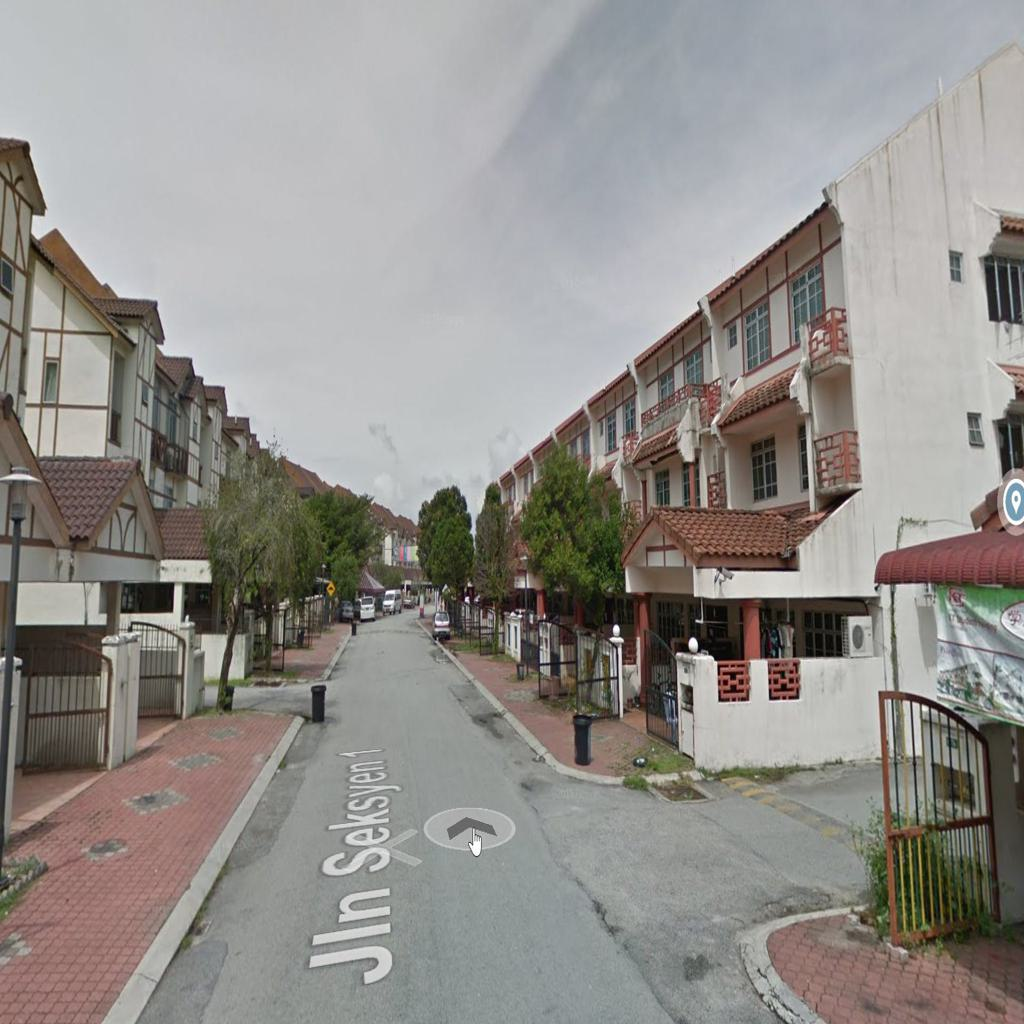Junction: (534, 712, 901, 992), (203, 652, 345, 754)
